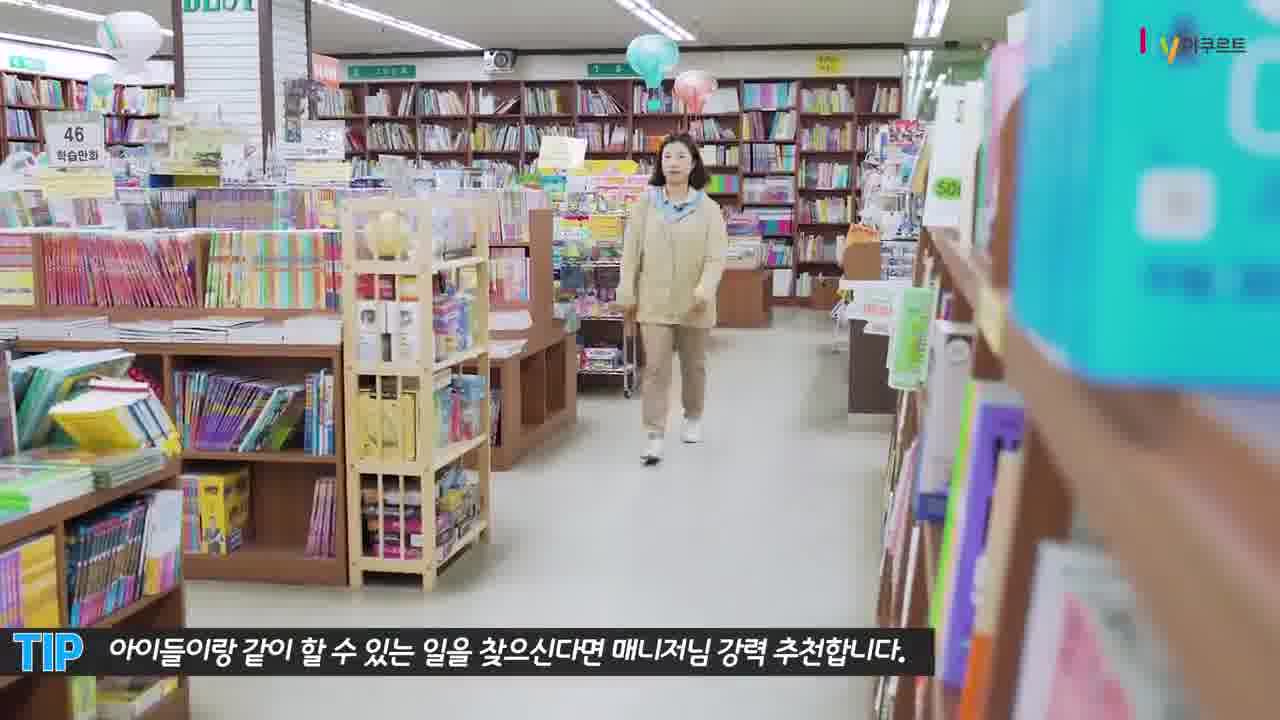Yakurut: (614, 135, 743, 481)
